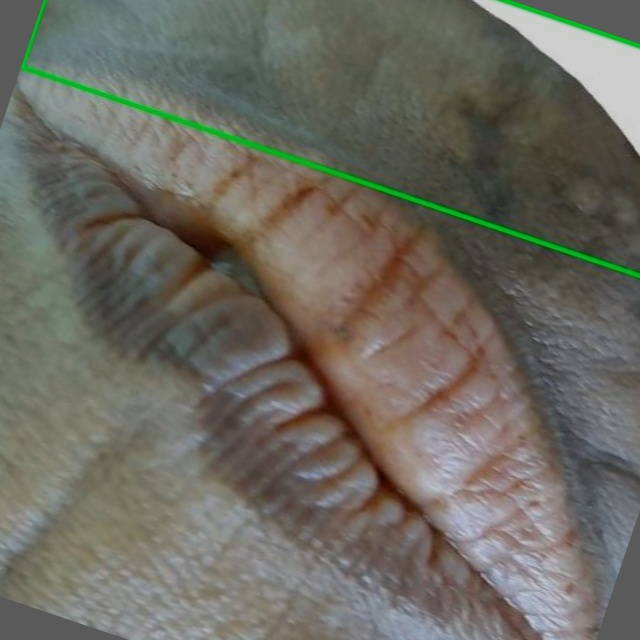Eczema: (22, 0, 639, 274)
